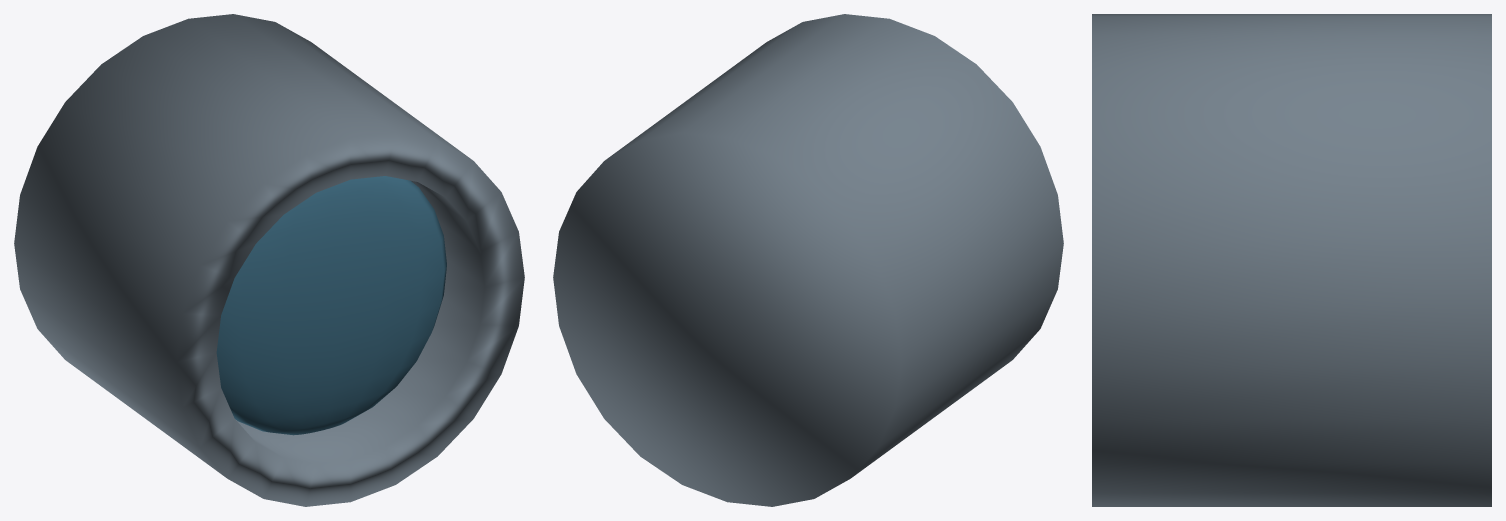
The model's file is dragon_dock.rendezvous_sensor_01.glb.
The picture shows the model from 3 angles, left to right: view 1: azimuth 30°, elevation 25°; view 2: azimuth 150°, elevation 25°; view 3: azimuth 270°, elevation 25°; orthographic projection. The views are drawn at different scales.
Visible parts, largest first — view 1: dragon_dock.rendezvous_sensor_01.mesh_Machined_steel, dragon_dock.rendezvous_sensor_01.lens.mesh_Coated_optical_gl; view 2: dragon_dock.rendezvous_sensor_01.mesh_Machined_steel; view 3: dragon_dock.rendezvous_sensor_01.mesh_Machined_steel.
Part boxes in pixels (box(x1,y1,x2,y2)): dragon_dock.rendezvous_sensor_01.mesh_Machined_steel: box(14, 14, 524, 506); dragon_dock.rendezvous_sensor_01.lens.mesh_Coated_optical_gl: box(216, 176, 446, 435); dragon_dock.rendezvous_sensor_01.mesh_Machined_steel: box(553, 14, 1063, 506); dragon_dock.rendezvous_sensor_01.mesh_Machined_steel: box(1092, 14, 1491, 506).
Size of the model in its own units: 0.104 by 0.104 by 0.084.
